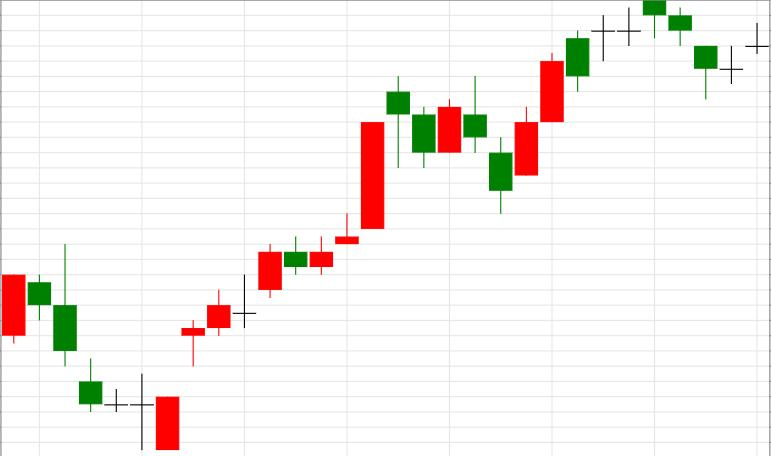evening_star_fall: (156, 77, 436, 450)
